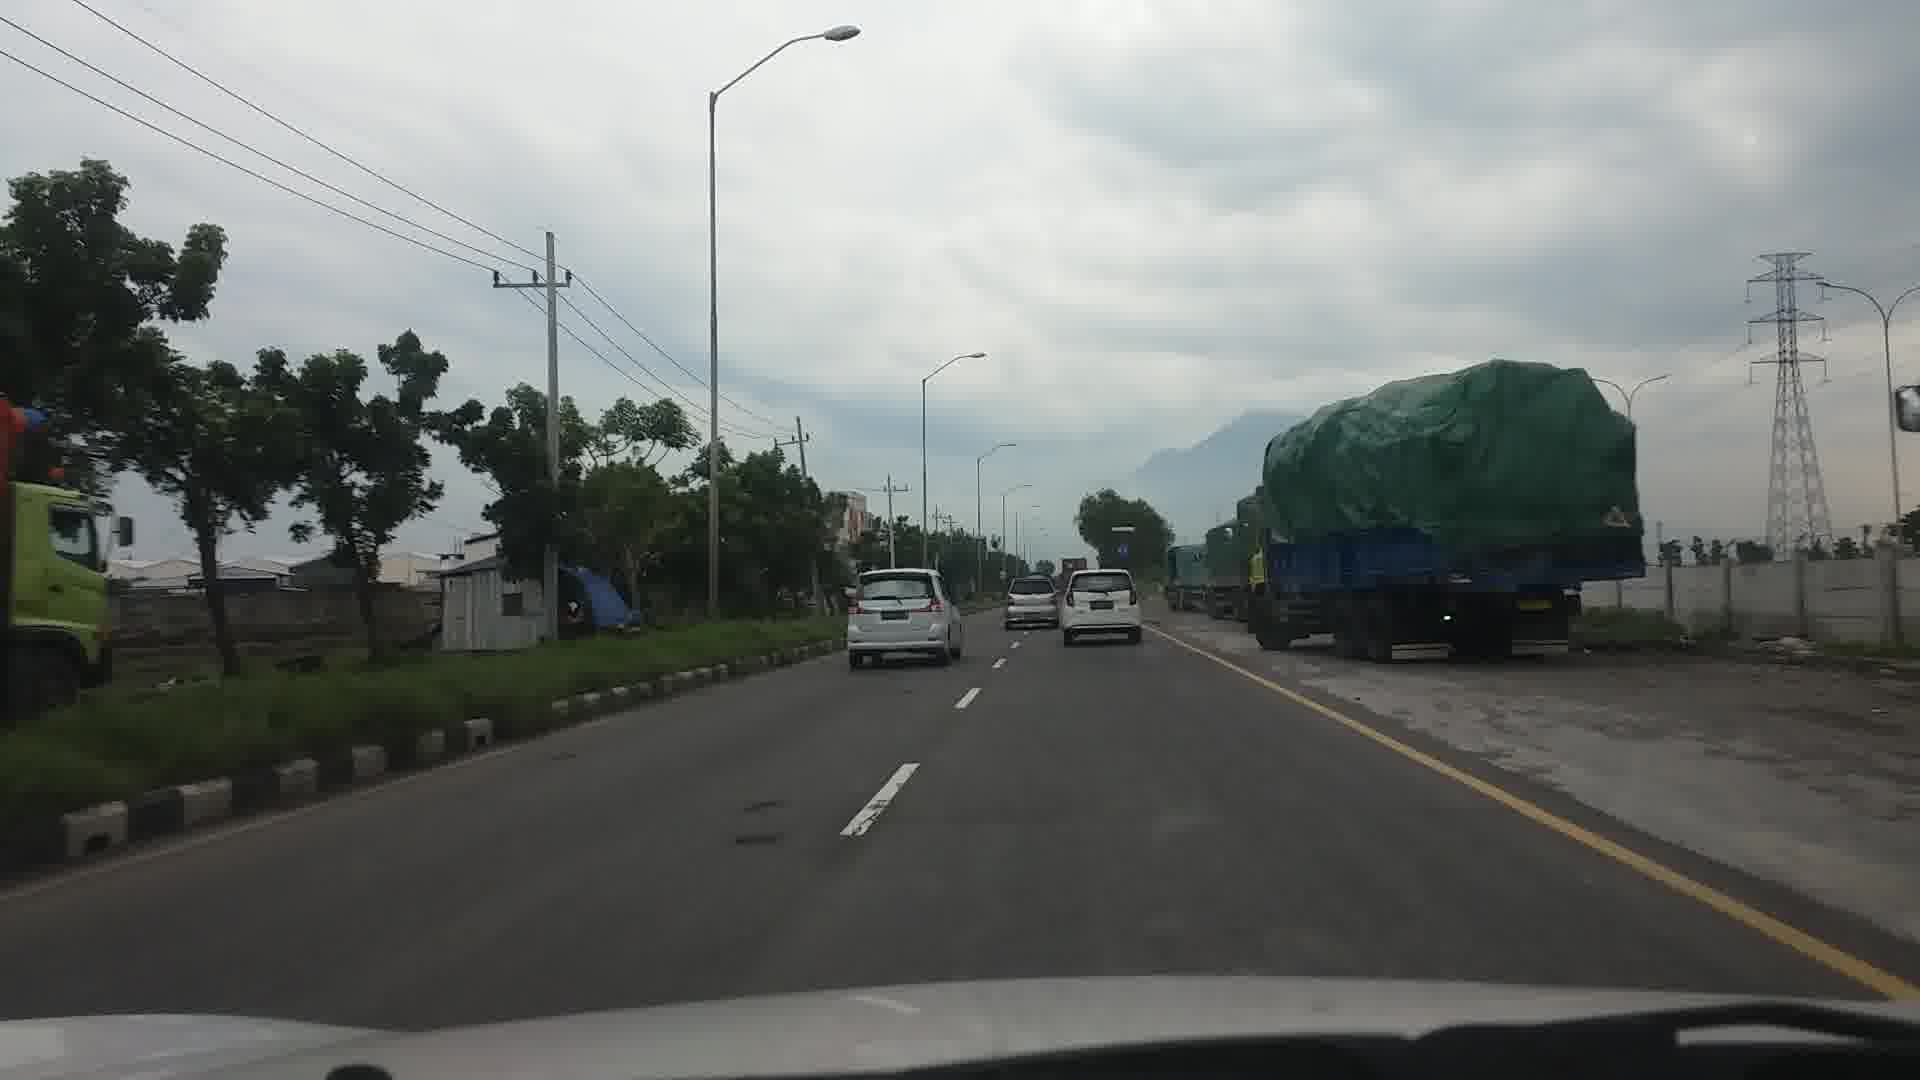plate_positive: (881, 611, 909, 621), (1091, 601, 1114, 611)
